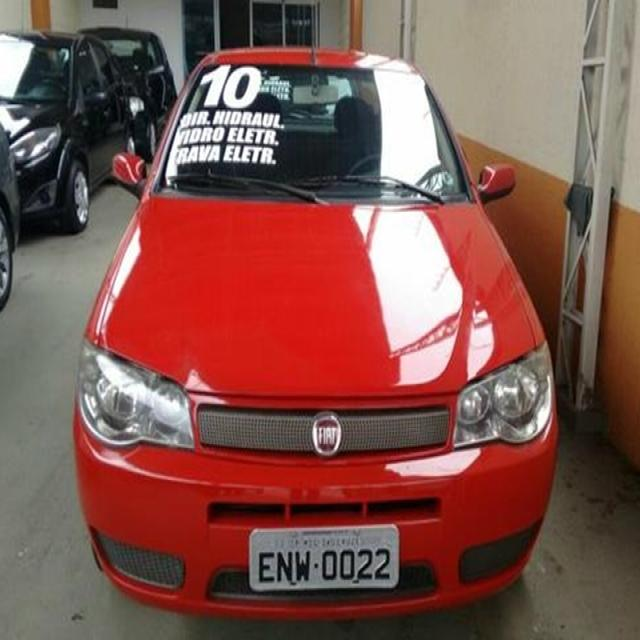Placa: (245, 521, 402, 592)
